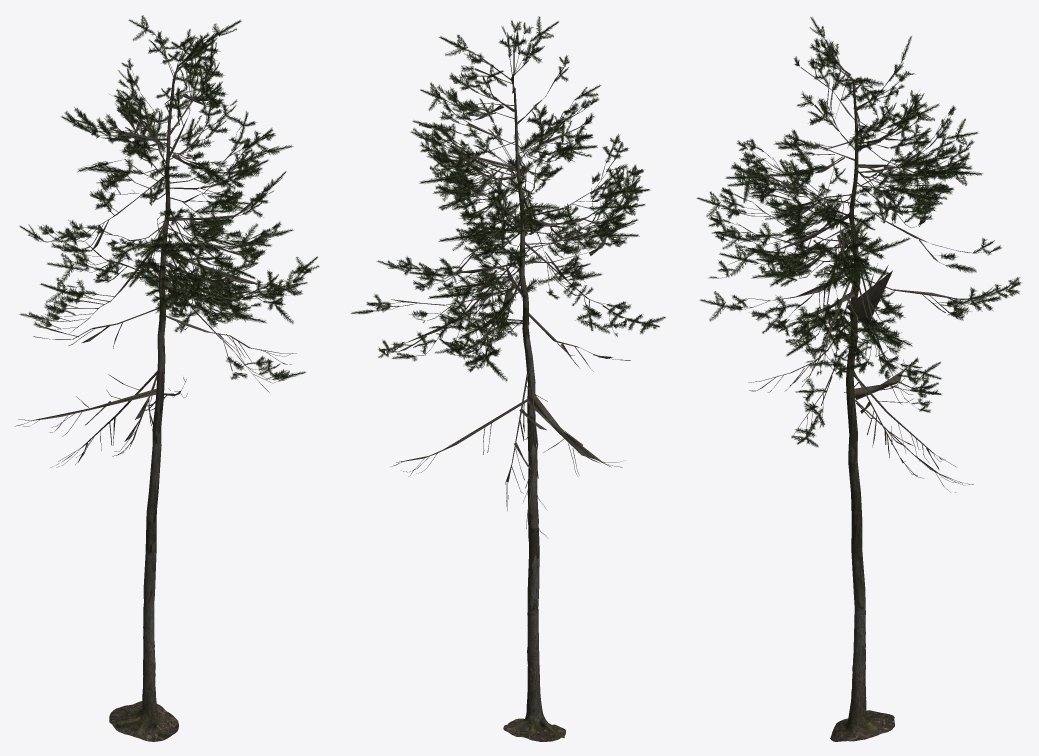
The model's file is fir_tree_01_c_near.glb.
The picture shows the model from 3 angles, left to right: view 1: azimuth 30°, elevation 25°; view 2: azimuth 150°, elevation 25°; view 3: azimuth 270°, elevation 25°; orthographic projection. The views are drawn at different scales.
Visible parts, largest first — view 1: fir_tree_01_c_near; view 2: fir_tree_01_c_near; view 3: fir_tree_01_c_near.
Boxes of the visible parts, <box> form: fir_tree_01_c_near: <box>15,15,319,741</box>; fir_tree_01_c_near: <box>350,16,665,741</box>; fir_tree_01_c_near: <box>696,16,1020,741</box>.
Size of the model in its own units: 6.35 by 14.55 by 6.01.
Materials: 3 (3 with a texture image).
